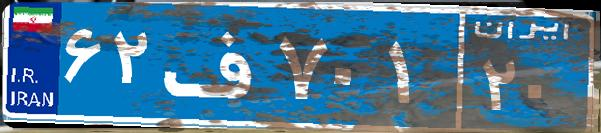0: (330, 28, 385, 110), (525, 38, 570, 115)
1: (385, 28, 445, 110)
2: (475, 38, 525, 113), (110, 28, 158, 105)
6: (57, 26, 110, 107)
7: (273, 28, 330, 110)
ف: (158, 15, 273, 115)
